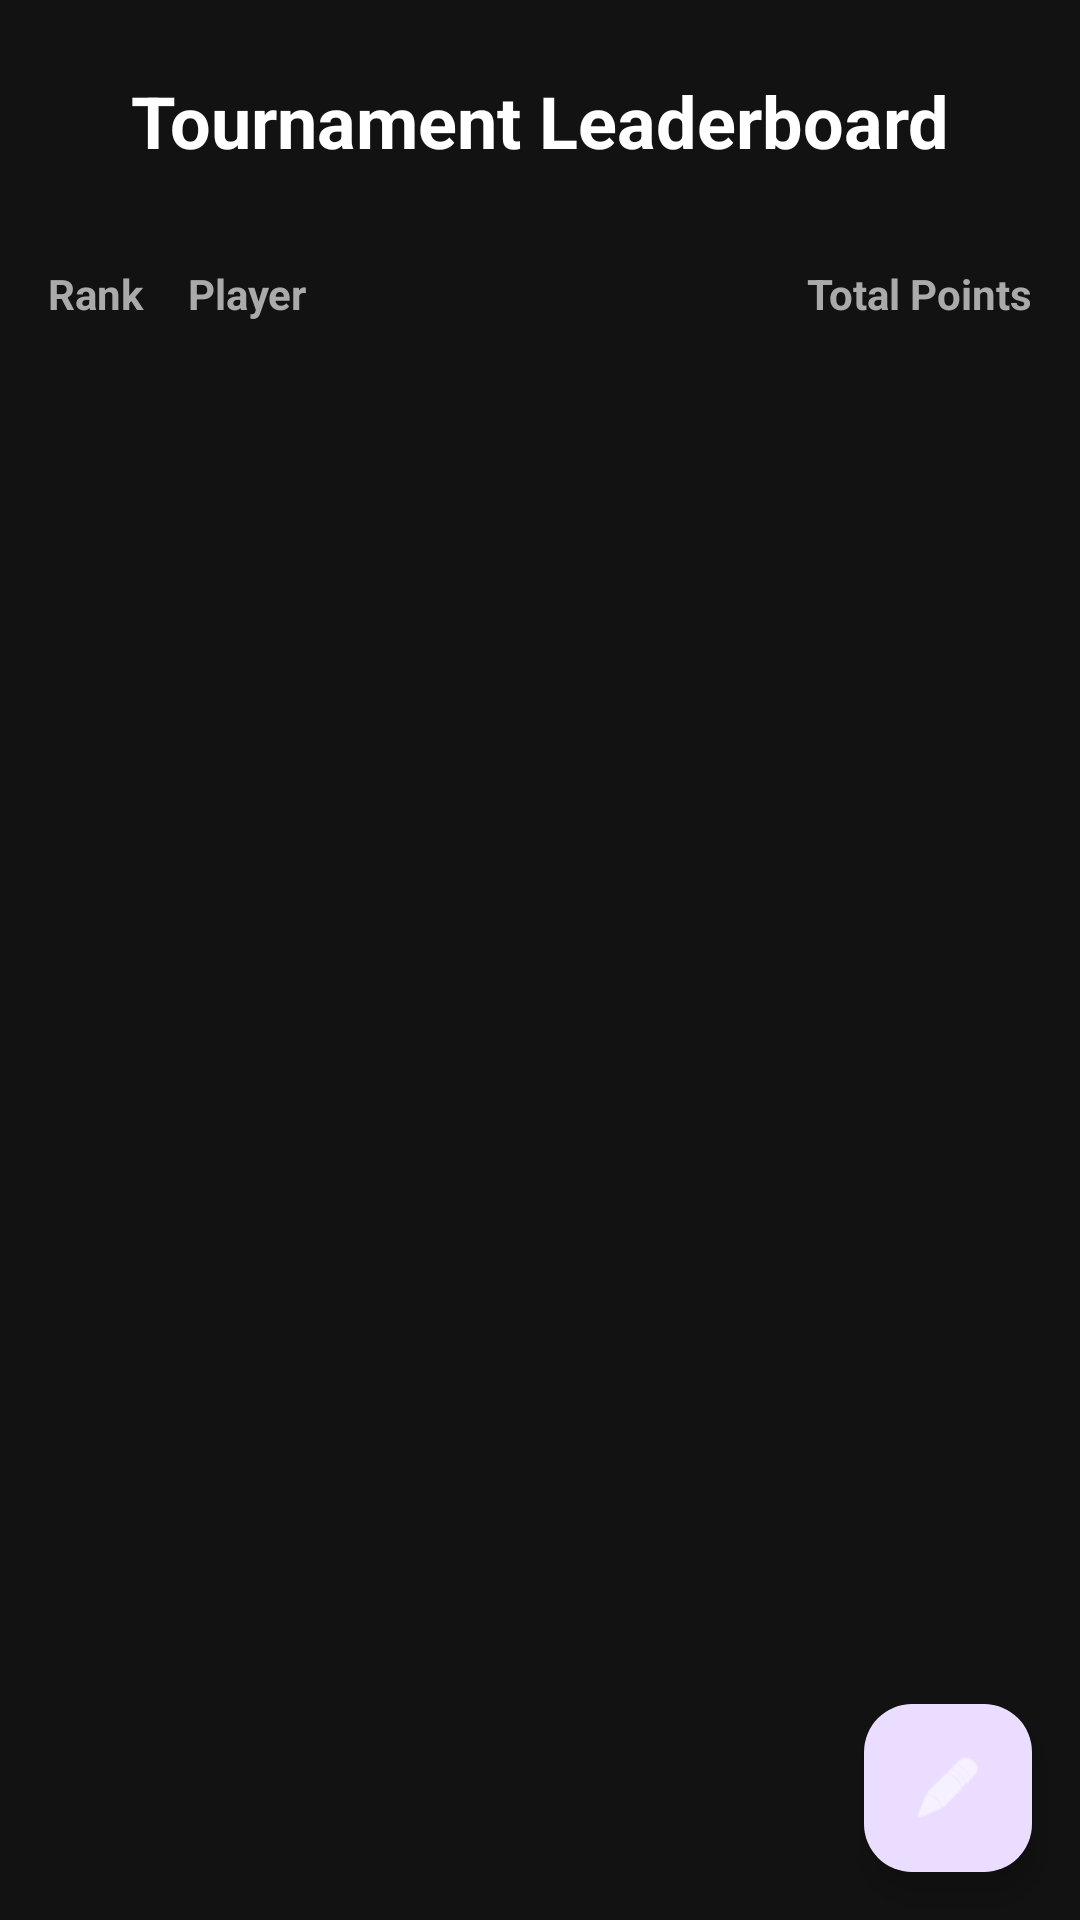

Icons on this 1080w x 1920h Android screen, each with the point to tap as point (x, y):
Enter Scores: point (948, 1788)
